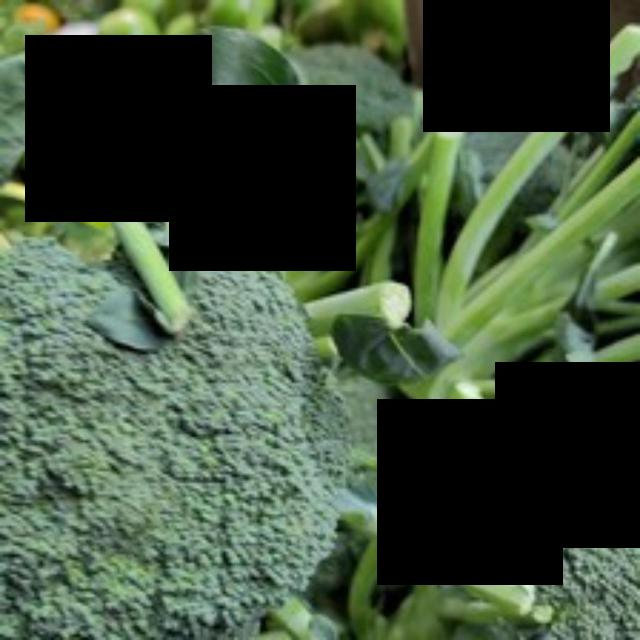broccoli: (0, 203, 346, 637)
